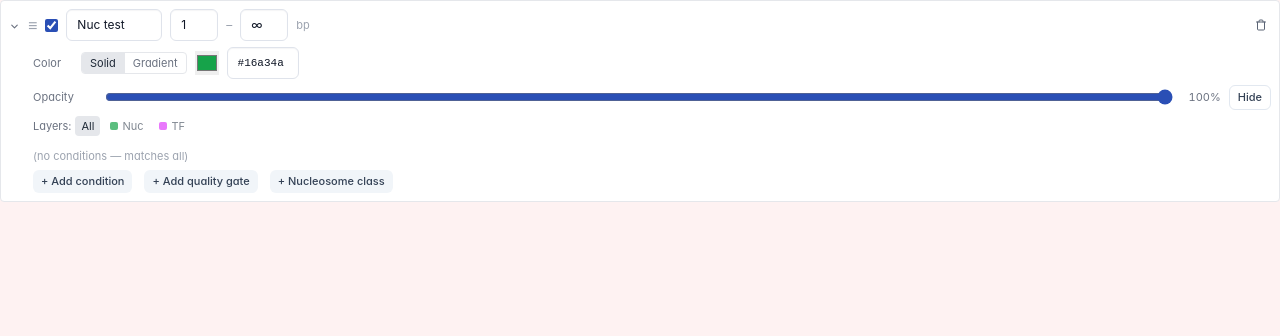
Test: nucleosome conditions in the colormap rule editor › adds the section on request and edits classes, z and the TF flag
This screenshot has width=1280, height=336.
Later steps or results of the test are not shown.
Click the button with test id "labeling-add-nuc-condition" at [331, 181], box [270,170,393,192]
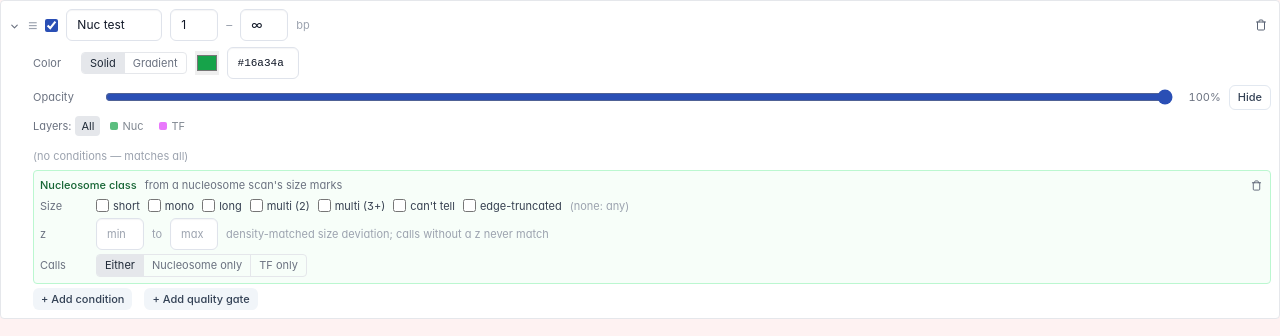
Expected: the element with test id "nuc-condition-editor" is shown, [33,170,1271,284]
